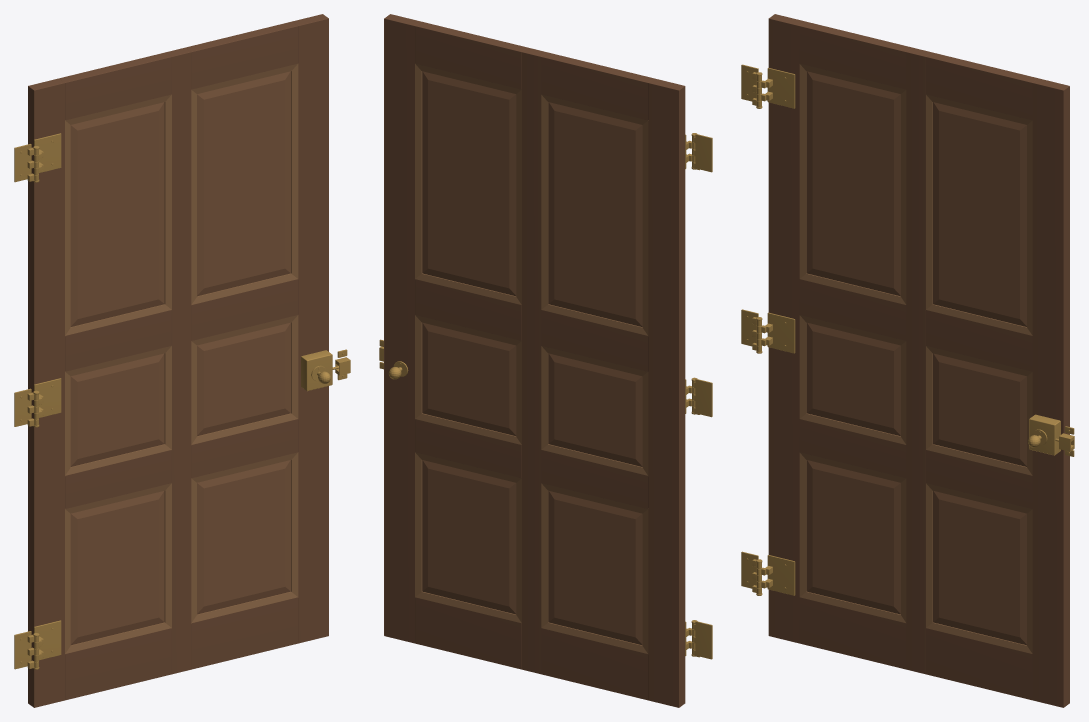
File: rpg-mansion-fitted-six-panel-door-1200-01.glb
3 renders of one model, left to right at view 1: azimuth 30°, elevation 25°; view 2: azimuth 150°, elevation 25°; view 3: azimuth 330°, elevation 25°, orthographic.
Visible parts, largest first — view 1: rpg-mansion-fitted-six-panel-door-1200-01; view 2: rpg-mansion-fitted-six-panel-door-1200-01; view 3: rpg-mansion-fitted-six-panel-door-1200-01.
Part boxes in pixels (left/top/right/bottom): rpg-mansion-fitted-six-panel-door-1200-01: left=14, top=14, right=350, bottom=707; rpg-mansion-fitted-six-panel-door-1200-01: left=379, top=14, right=712, bottom=707; rpg-mansion-fitted-six-panel-door-1200-01: left=741, top=14, right=1074, bottom=707.
Size of the model in its own units: 1.34 by 2.38 by 0.22.
